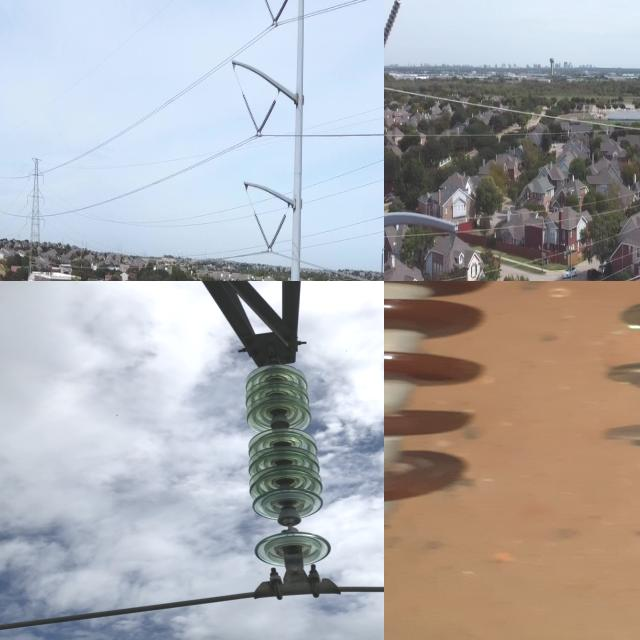杆塔: (21, 148, 50, 281)
正常绝缘子: (384, 281, 514, 522), (230, 343, 335, 591), (384, 0, 409, 60), (240, 89, 262, 137), (253, 98, 279, 137), (253, 210, 275, 254), (265, 213, 287, 254), (271, 0, 289, 28), (262, 0, 279, 29), (375, 244, 384, 281), (380, 187, 384, 225)
绝缘子破损: (276, 516, 305, 532), (266, 416, 295, 429)
